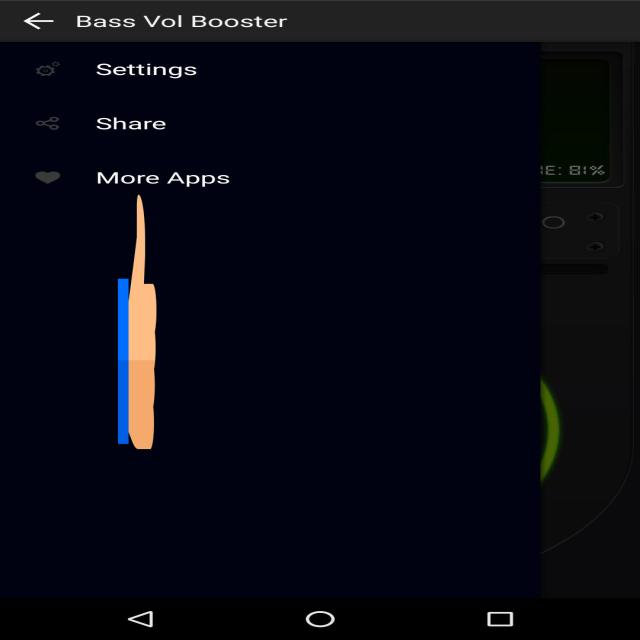privacy zuckering: (118, 188, 156, 456)
